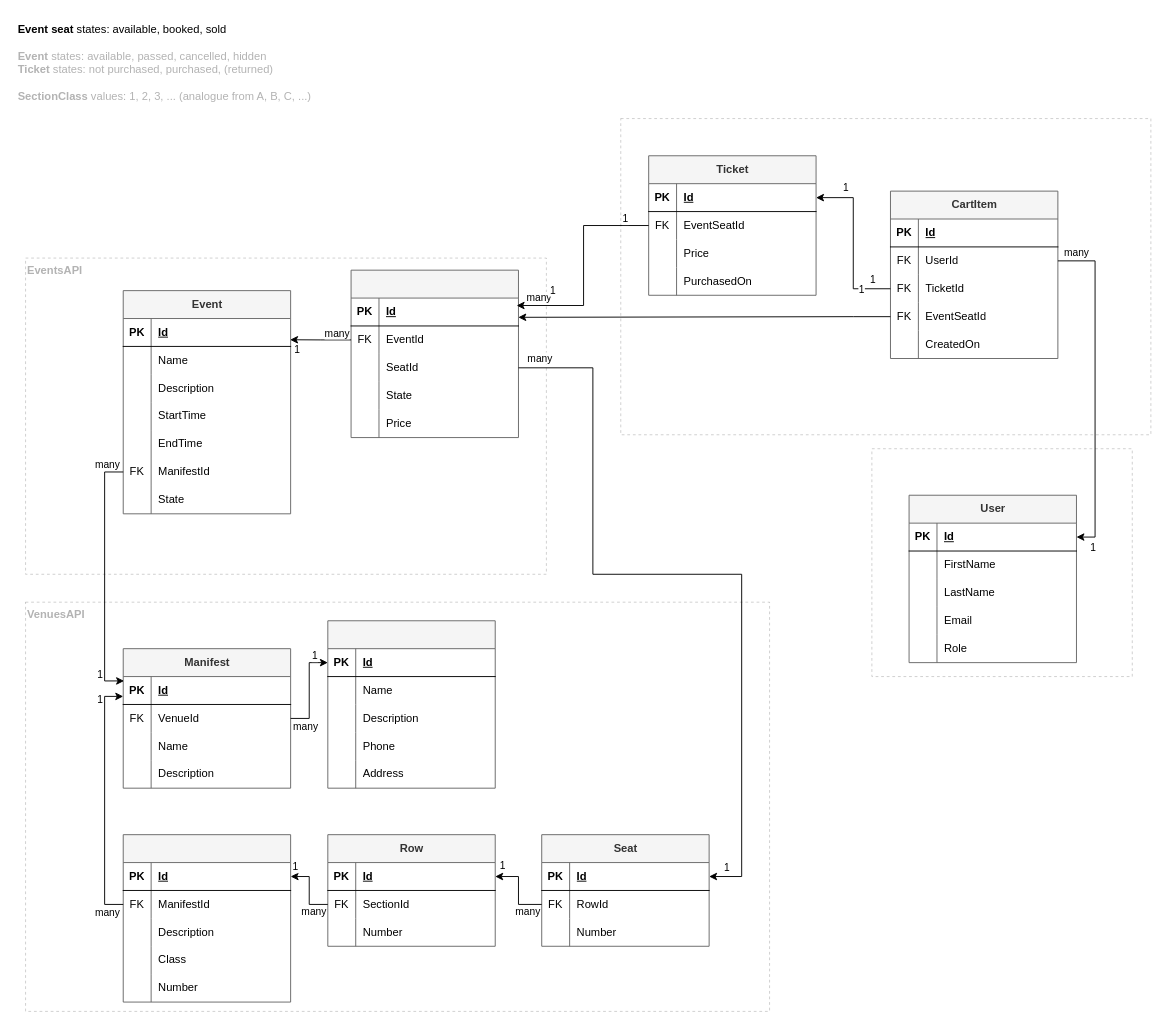
The diagram is 1167 pixels wide and 1028 high, and some of its shapes have lost their labels. The shapes that lost their labels are listed below. From the top down, each one's box as (x1, y1, x2, y2) in pixels, then its label:
(620, 118, 1151, 435): PurchasesAPI
(350, 269, 518, 438): EventSeat
(871, 448, 1132, 677): UsersAPI
(327, 620, 495, 788): Venue
(122, 834, 291, 1002): Section
